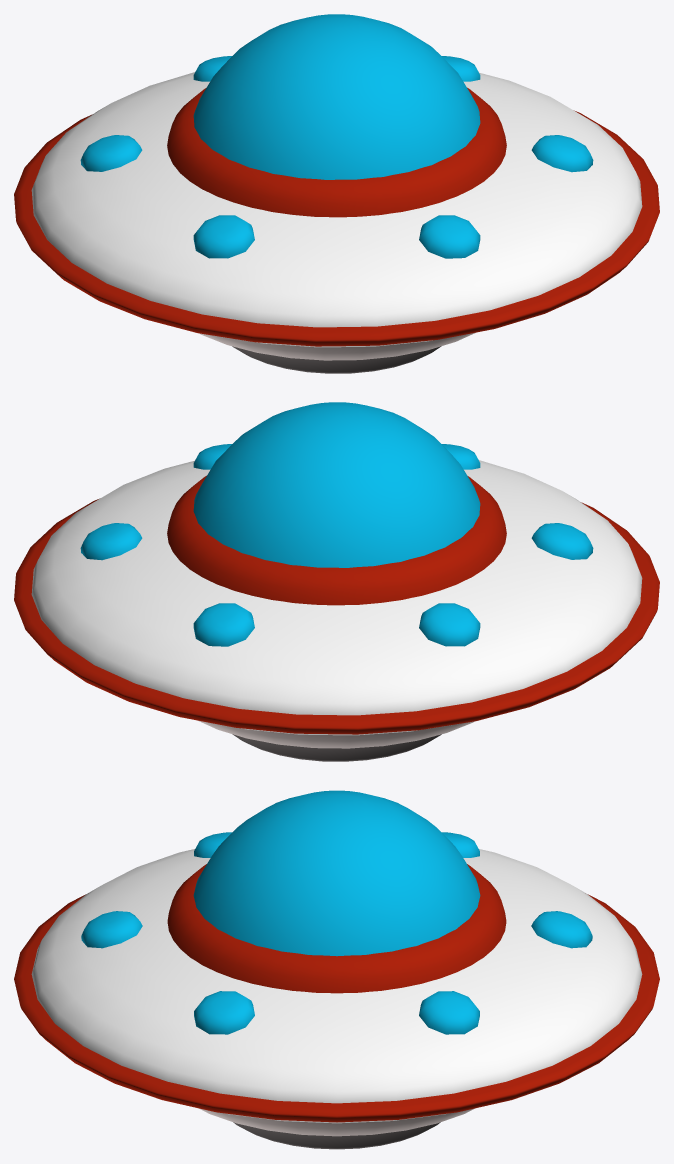
Rendered from ExportFinalMayBe4.fbx.
3 renders of one model, top to bottom at view 1: azimuth 30°, elevation 25°; view 2: azimuth 150°, elevation 25°; view 3: azimuth 270°, elevation 25°, orthographic.
Parts seen in each view (by area): view 1: Animation4:Animation3:Animation1:Animation1:model:ufo; view 2: Animation4:Animation3:Animation1:Animation1:model:ufo; view 3: Animation4:Animation3:Animation1:Animation1:model:ufo.
Boxes of the visible parts, <box> form: Animation4:Animation3:Animation1:Animation1:model:ufo: <box>14,14,659,373</box>; Animation4:Animation3:Animation1:Animation1:model:ufo: <box>14,402,659,761</box>; Animation4:Animation3:Animation1:Animation1:model:ufo: <box>14,790,659,1149</box>.
Bounding box in the file's own units: 4.21 × 2.14 × 4.21.
